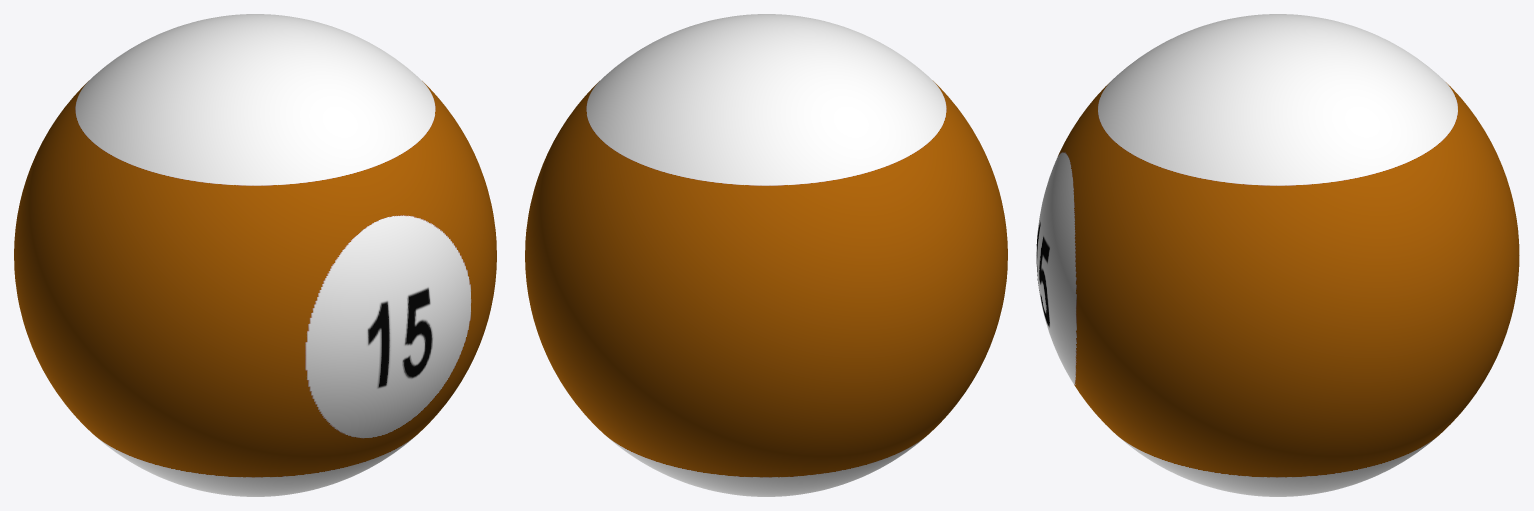
File: 15ball.obj
3 renders of one model, left to right at view 1: azimuth 30°, elevation 25°; view 2: azimuth 150°, elevation 25°; view 3: azimuth 270°, elevation 25°, orthographic.
Visible parts, largest first — view 1: moon_Sphere; view 2: moon_Sphere; view 3: moon_Sphere.
Boxes of the visible parts, x1,y1,x2,y2 form: moon_Sphere: (14, 14, 496, 496); moon_Sphere: (525, 14, 1007, 496); moon_Sphere: (1036, 14, 1519, 496).
Size of the model in its own units: 2 by 2 by 2.
Materials: 1 (1 with a texture image).
